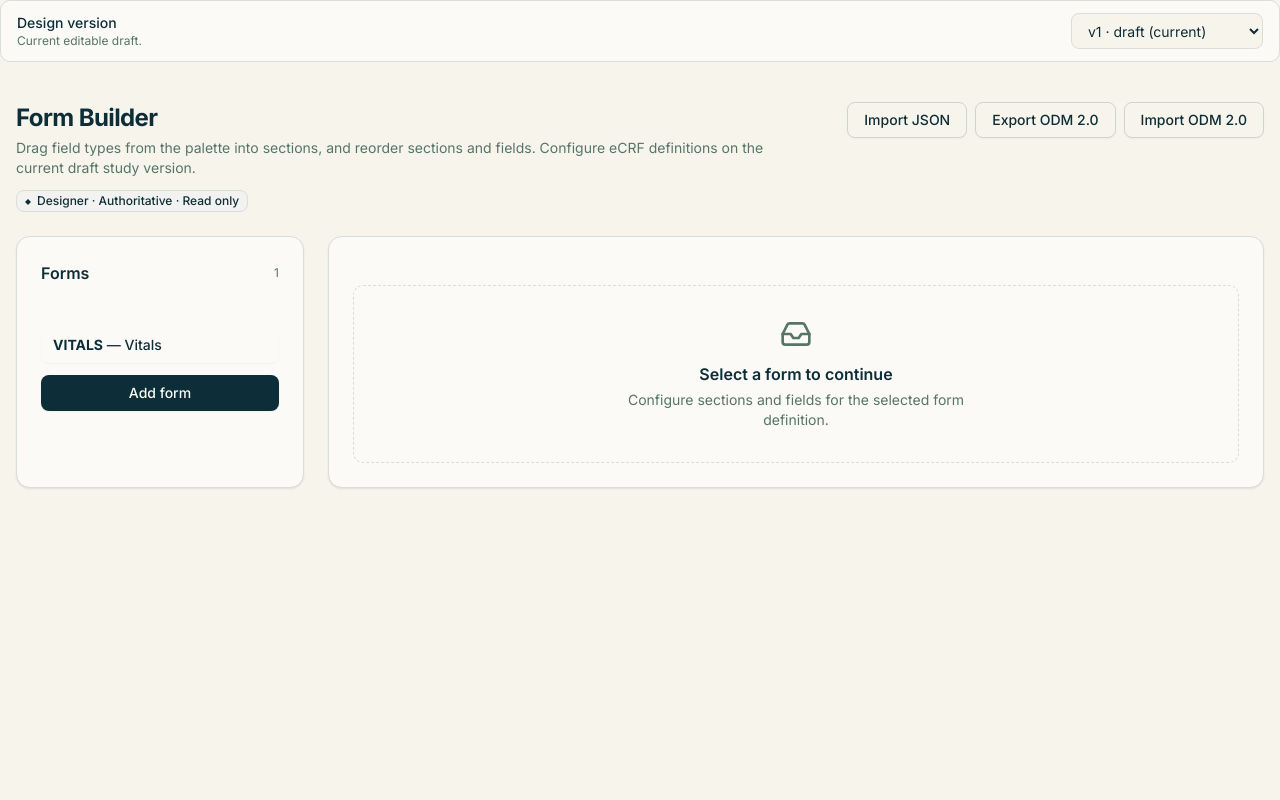
Test: FormBuilderPage (dnd) › shows each field type as its corresponding widget in the builder
Step 1. Click the button "VITALS — Vitals" → coordinates (160, 345), box left=41, top=327, right=279, bottom=363
(page scrolled)
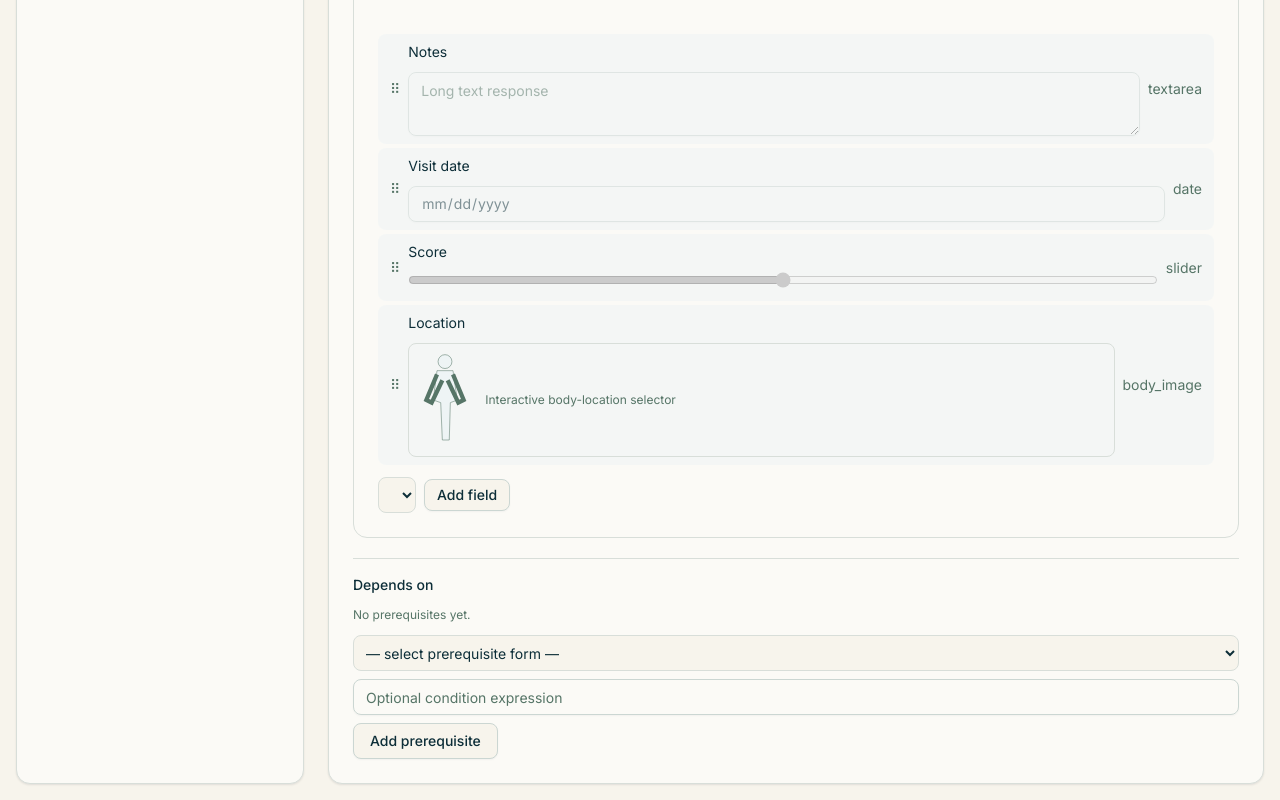
Expected: the text box named "Notes preview" is disabled, left=408, top=72, right=1140, bottom=136
Expected: the picture named "Body image preview" is shown, left=417, top=352, right=473, bottom=448
